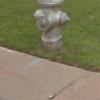Hydrant: (26, 2, 80, 56)
